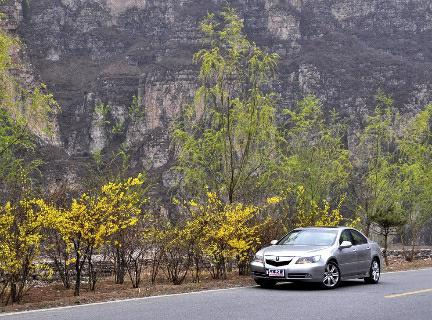讴歌-RL: (256, 224, 384, 295)
